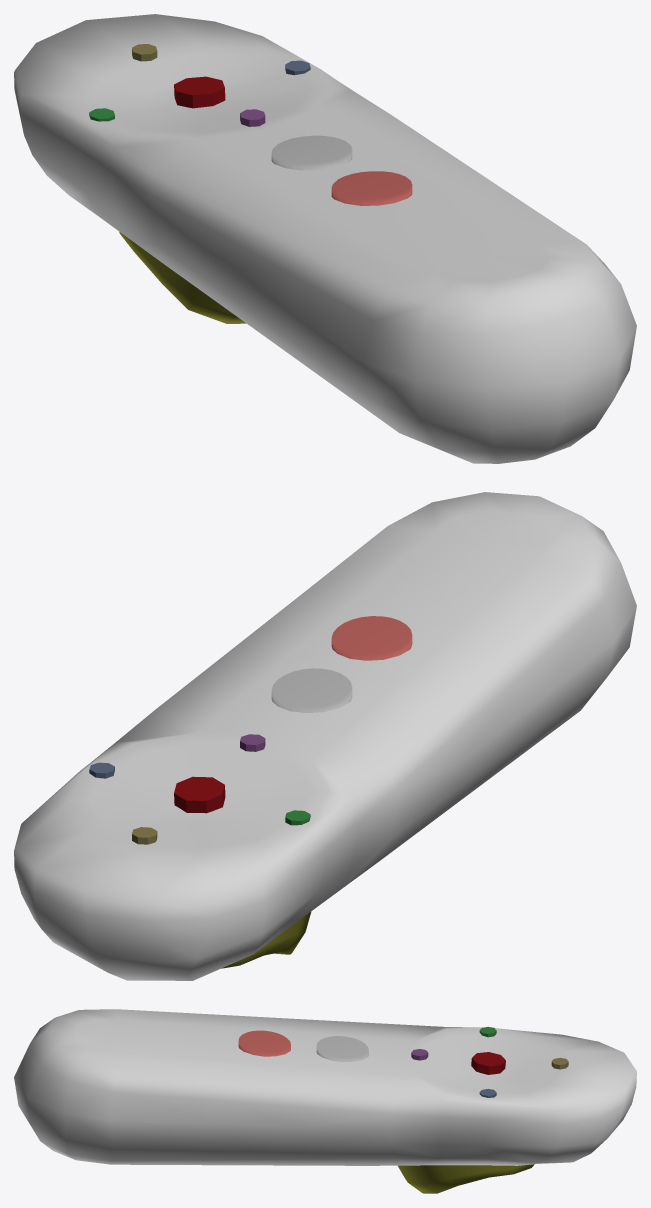
File: BridgeController.dae
3 views of the same model, one above another, from view 1: azimuth 30°, elevation 25°; view 2: azimuth 150°, elevation 25°; view 3: azimuth 270°, elevation 25° (orthographic). The views are drawn at different scales.
Parts seen in each view (by area): view 1: MainBody_Mesh, BackButton_Mesh, StartButton_Mesh, Trigger_Mesh, TrackPad_Center_Mesh; view 2: MainBody_Mesh, BackButton_Mesh, StartButton_Mesh, TrackPad_Center_Mesh, Trigger_Mesh; view 3: MainBody_Mesh, Trigger_Mesh, StartButton_Mesh, BackButton_Mesh, TrackPad_Center_Mesh.
Part boxes in pixels (<box>): MainBody_Mesh: <box>14,14,636,463</box>; BackButton_Mesh: <box>271,135,352,170</box>; StartButton_Mesh: <box>331,171,412,205</box>; Trigger_Mesh: <box>119,232,246,323</box>; TrackPad_Center_Mesh: <box>174,76,225,108</box>; MainBody_Mesh: <box>14,492,636,980</box>; BackButton_Mesh: <box>271,668,352,713</box>; StartButton_Mesh: <box>331,616,412,660</box>; TrackPad_Center_Mesh: <box>174,776,225,813</box>; Trigger_Mesh: <box>221,911,311,968</box>; MainBody_Mesh: <box>14,1009,636,1165</box>; Trigger_Mesh: <box>398,1164,534,1193</box>; StartButton_Mesh: <box>238,1030,290,1056</box>; BackButton_Mesh: <box>316,1036,368,1061</box>; TrackPad_Center_Mesh: <box>471,1052,505,1074</box>.
Bounding box in the file's own units: 0.3661 × 0.3403 × 1.21.
